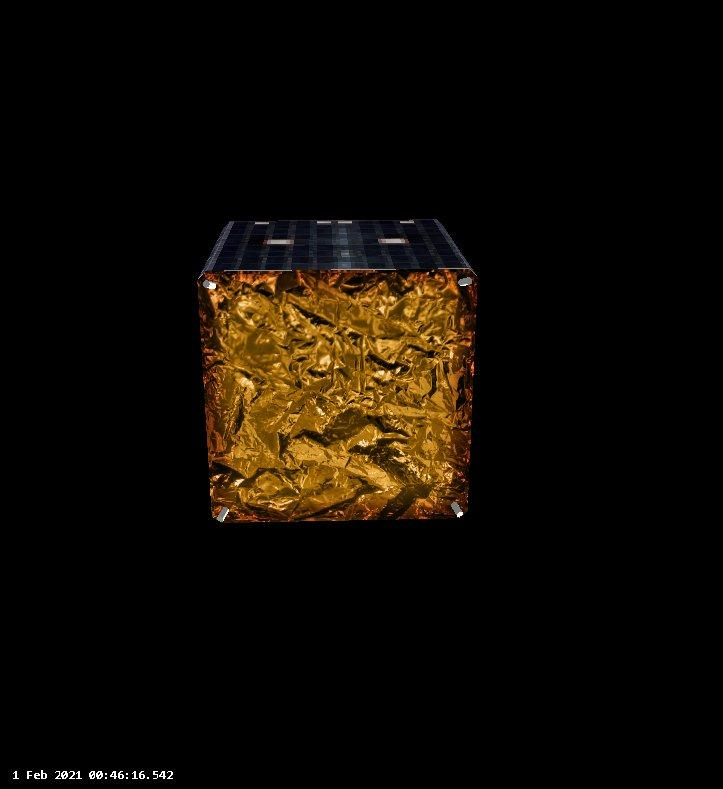solar: (197, 216, 480, 274)
thruster: (192, 217, 473, 526), (448, 496, 466, 520), (197, 277, 220, 292), (454, 274, 475, 289), (214, 505, 230, 523)
